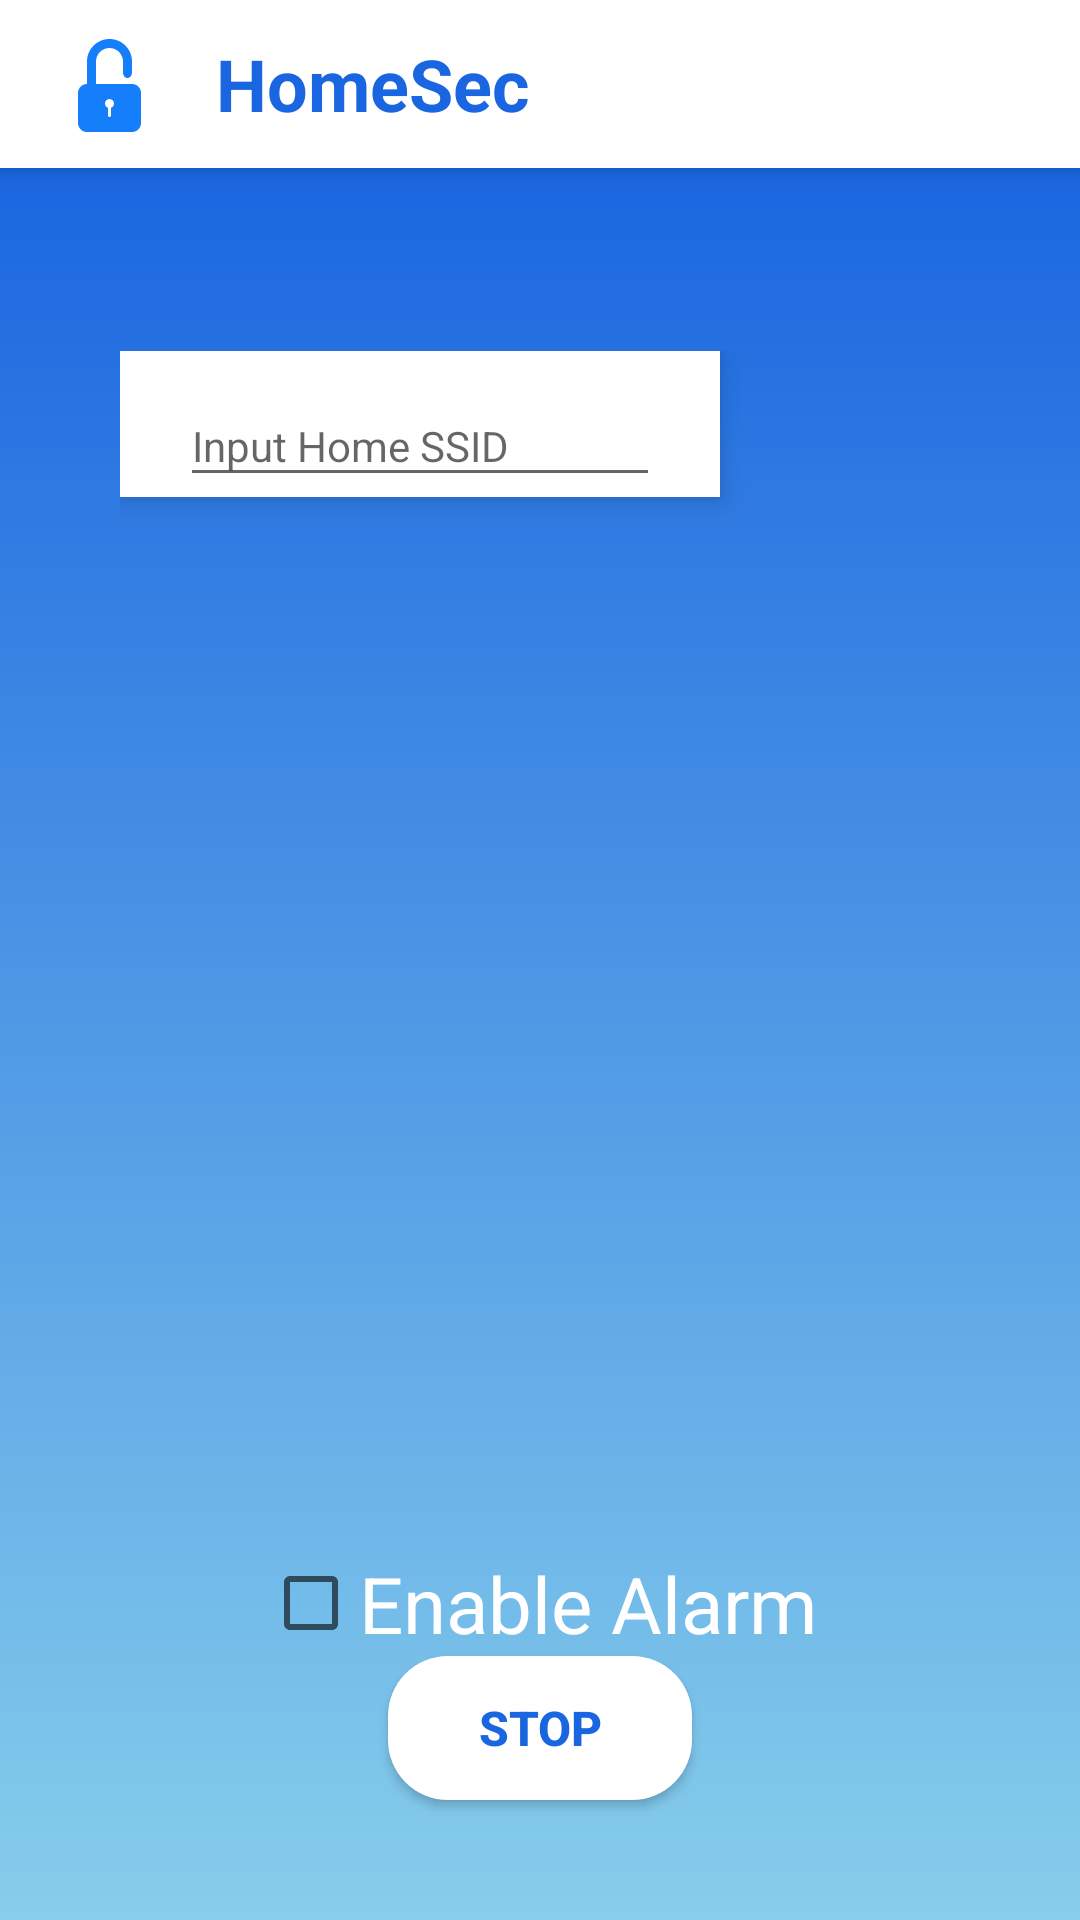

Icons on this 1080px×1920px Android screen, each with the point to tap as [x,y]:
unlock: [109,85]
